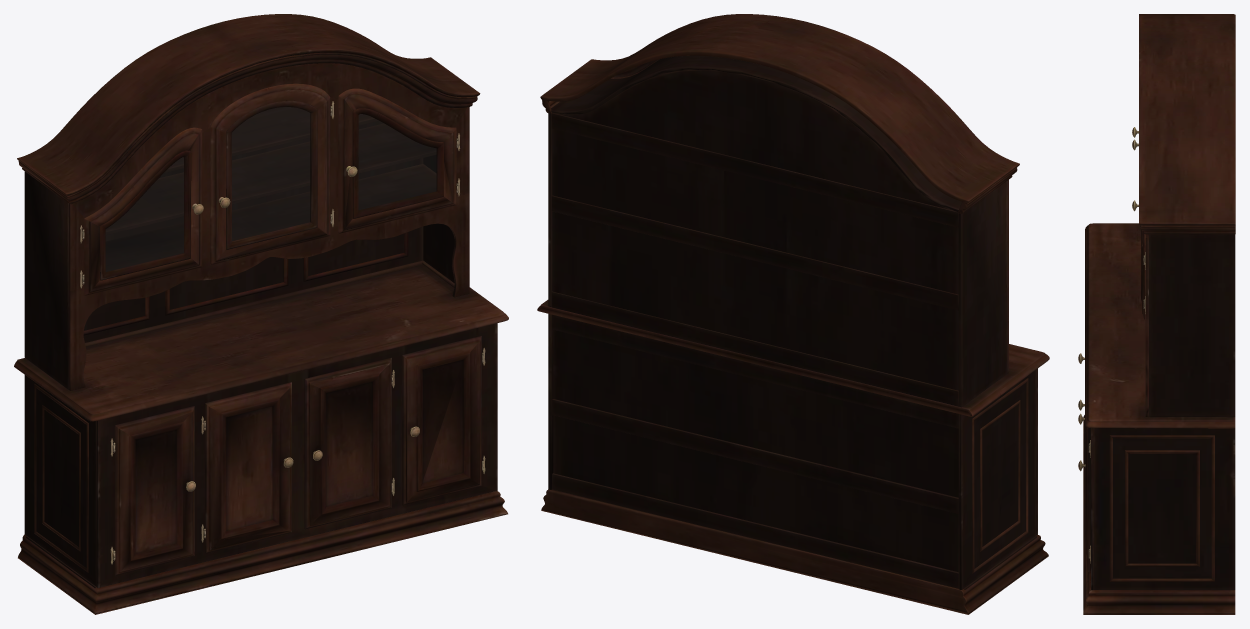
File: vintage_cabinet_01.glb
3 views of the same model, side by side, from view 1: azimuth 30°, elevation 25°; view 2: azimuth 150°, elevation 25°; view 3: azimuth 270°, elevation 25° (orthographic). The views are drawn at different scales.
Parts seen in each view (by area): view 1: vintage_cabinet_01_body, vintage_cabinet_01_door_01; view 2: vintage_cabinet_01_body; view 3: vintage_cabinet_01_body.
Boxes of the visible parts, x1,y1,x2,y2 form: vintage_cabinet_01_body: (14,14,508,614); vintage_cabinet_01_door_01: (106,107,436,271); vintage_cabinet_01_body: (537,14,1049,614); vintage_cabinet_01_body: (1078,14,1235,614).
Bounding box in the file's own units: 2.02 × 2.24 × 0.6699.
Materials: 3 (2 with a texture image).
